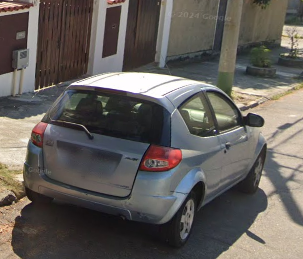car: (23, 71, 266, 246)
